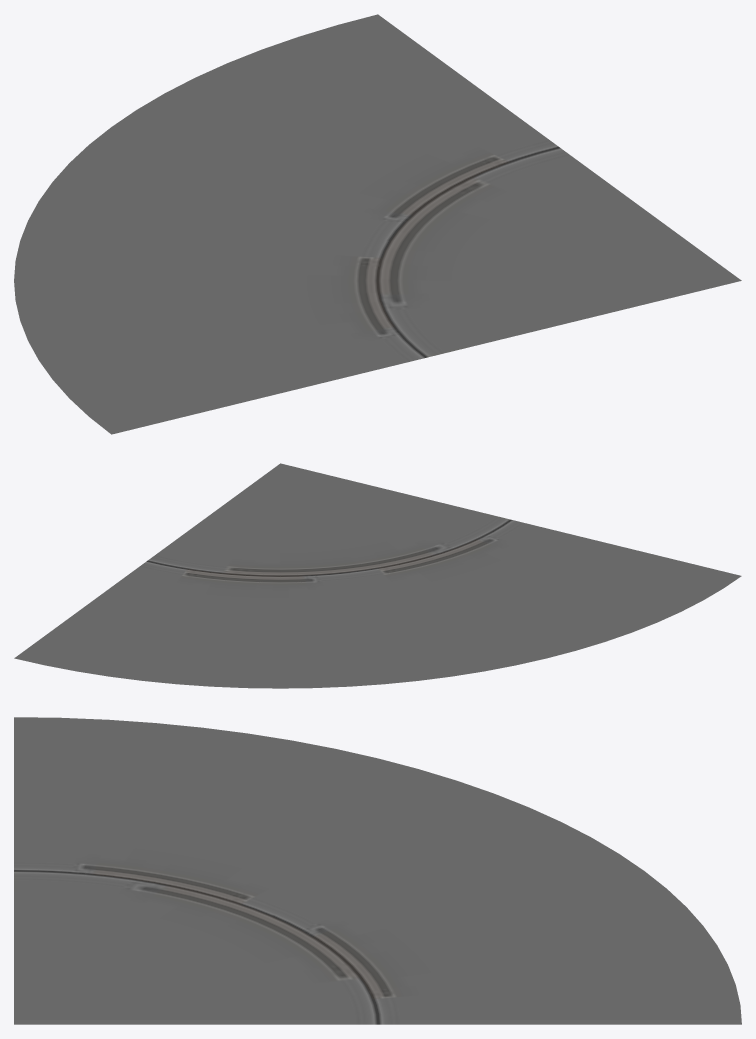
Rendered from sf_floor_squares_curve.glb.
3 renders of one model, top to bottom at view 1: azimuth 30°, elevation 25°; view 2: azimuth 150°, elevation 25°; view 3: azimuth 270°, elevation 25°, orthographic. The views are drawn at different scales.
Parts seen in each view (by area): view 1: Platform_Squares_Curve; view 2: Platform_Squares_Curve; view 3: Platform_Squares_Curve.
Part boxes in pixels (bbox=[...]): Platform_Squares_Curve: bbox=[14, 14, 741, 434]; Platform_Squares_Curve: bbox=[14, 463, 741, 688]; Platform_Squares_Curve: bbox=[14, 717, 741, 1024].
Size of the model in its own units: 4 by 0 by 4.
Materials: 1 (1 with a texture image).
